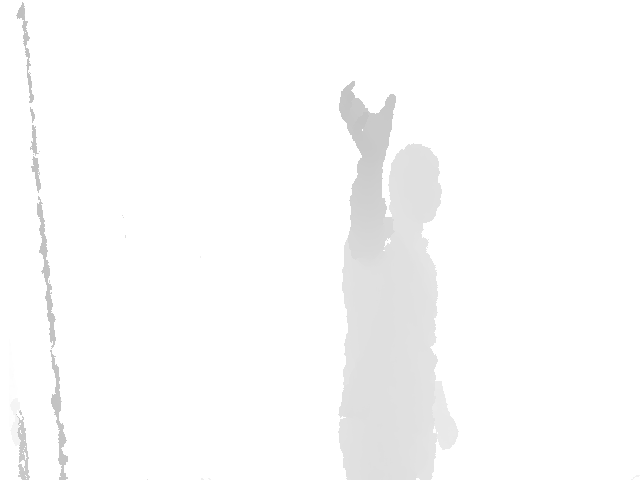hand: (338, 81, 396, 157)
hand_down: (433, 413, 458, 451)
head: (387, 143, 442, 225)
person: (337, 81, 459, 480)
